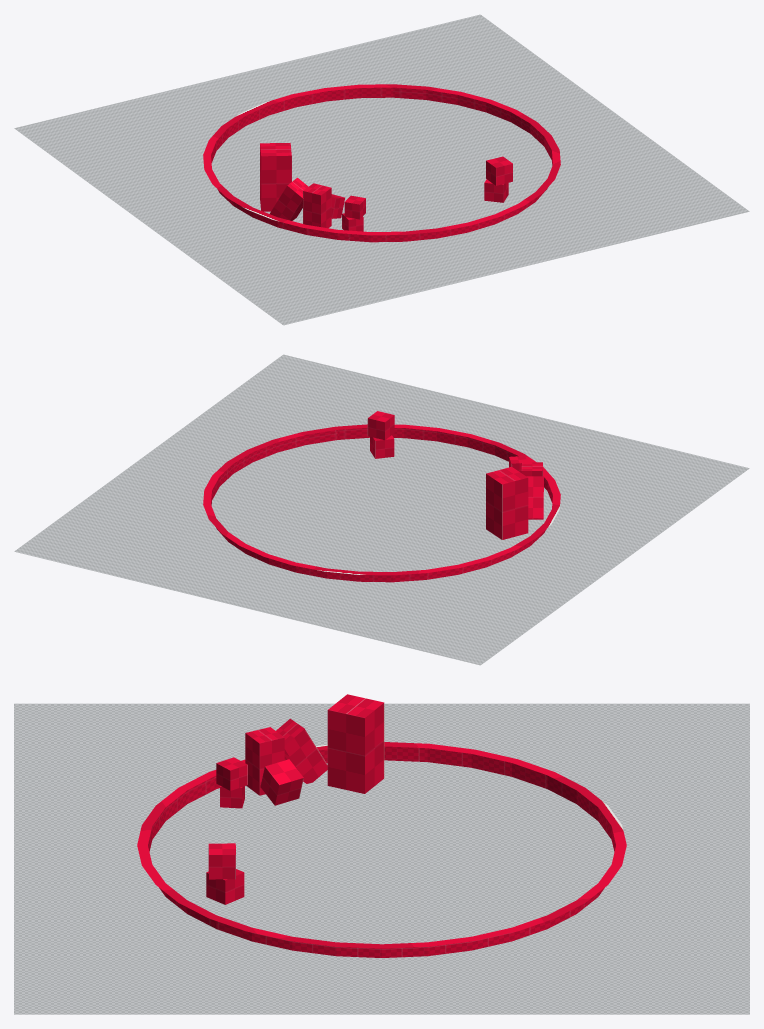
Rendered from ground.glb.
3 views of the same model, one above another, from view 1: azimuth 30°, elevation 25°; view 2: azimuth 150°, elevation 25°; view 3: azimuth 270°, elevation 25° (orthographic). The views are drawn at different scales.
Parts seen in each view (by area): view 1: Plane, Cylinder, Cube, Cube.002, Cube.006, Cube.007; view 2: Plane, Cylinder, Cube, Cube.006, Cube.007; view 3: Plane, Cylinder, Cube, Cube.002, Cube.006, Cube.005, Cube.007, Cube.008, Cube.001.
Part boxes in pixels (box(x1,y1,x2,y2)): Plane: box(14, 14, 749, 325); Cylinder: box(203, 84, 560, 242); Cube: box(260, 143, 291, 211); Cube.002: box(303, 183, 331, 228); Cube.006: box(270, 177, 308, 220); Cube.007: box(486, 156, 512, 185); Plane: box(14, 354, 749, 665); Cylinder: box(203, 424, 560, 582); Cube: box(486, 466, 528, 539); Cube.006: box(526, 476, 543, 519); Cube.007: box(367, 411, 394, 440); Plane: box(14, 703, 749, 1014); Cylinder: box(137, 742, 626, 957); Cube: box(327, 694, 384, 793); Cube.002: box(245, 727, 284, 795); Cube.006: box(276, 718, 327, 783); Cube.005: box(260, 759, 303, 805); Cube.007: box(208, 843, 235, 879); Cube.008: box(206, 869, 244, 904); Cube.001: box(216, 757, 247, 790).
Bounding box in the file's own units: 35.14 × 4.88 × 35.14.
Materials: 2 (2 with a texture image).
